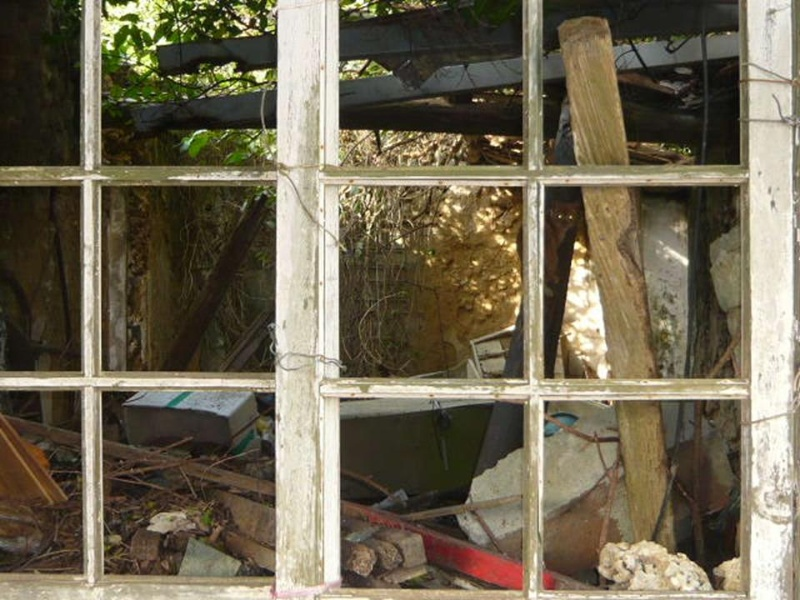styrofoam: (119, 386, 260, 472)
